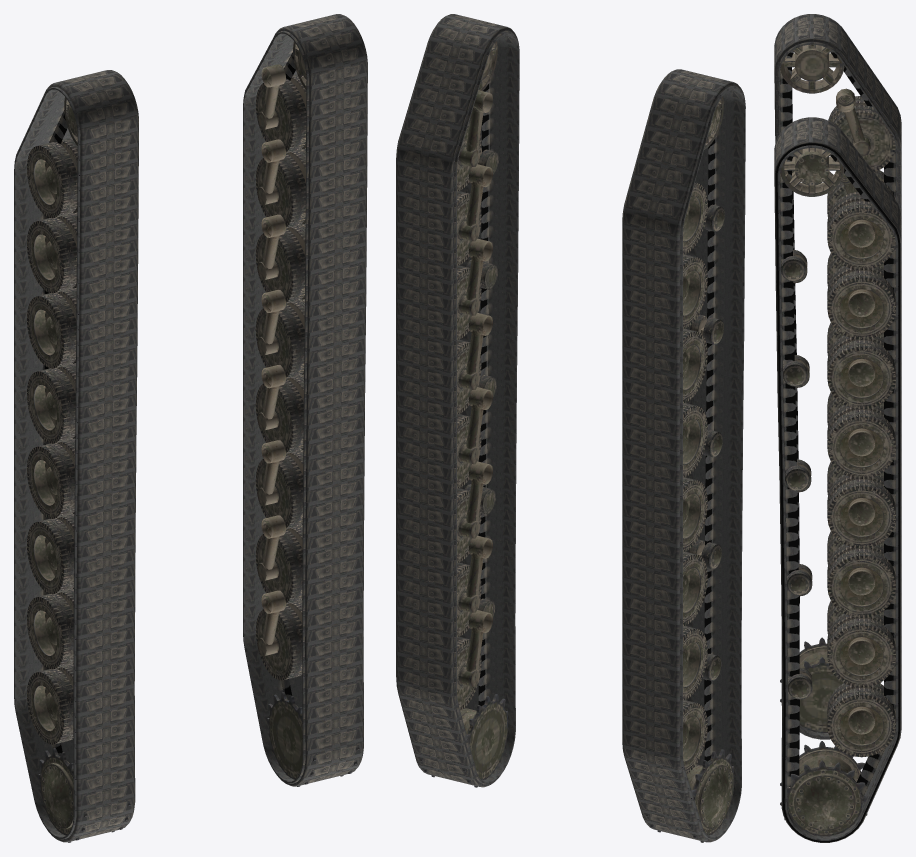
Rendered from Chassis.glb.
The picture shows the model from 3 angles, left to right: view 1: azimuth 30°, elevation 25°; view 2: azimuth 150°, elevation 25°; view 3: azimuth 270°, elevation 25°; orthographic projection. The views are drawn at different scales.
Parts seen in each view (by area): view 1: set_0_group_0, set_1_group_0, set_3_group_0, set_2_group_0; view 2: set_0_group_0, set_1_group_0, set_3_group_0, set_2_group_0; view 3: set_3_group_0, set_1_group_0, set_2_group_0, set_0_group_0.
Part boxes in pixels (x1,y1,x2,y2): set_0_group_0: [14, 70, 138, 842]; set_1_group_0: [243, 14, 367, 786]; set_3_group_0: [255, 41, 359, 786]; set_2_group_0: [27, 97, 130, 842]; set_0_group_0: [622, 69, 745, 842]; set_1_group_0: [396, 14, 519, 787]; set_3_group_0: [419, 41, 507, 787]; set_2_group_0: [646, 96, 734, 842]; set_3_group_0: [780, 148, 895, 836]; set_1_group_0: [774, 117, 901, 842]; set_2_group_0: [780, 44, 895, 732]; set_0_group_0: [774, 14, 901, 739].
Bounding box in the file's own units: 3.38 × 8.39 × 1.38.
Materials: 4 (4 with a texture image).
